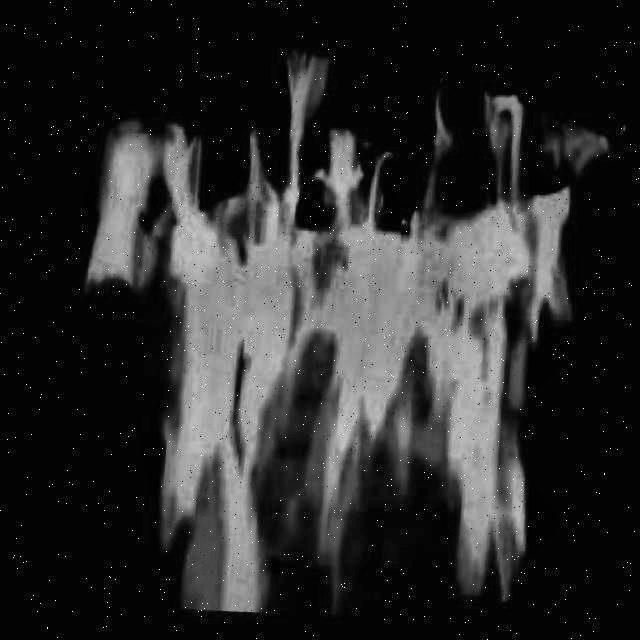Fire: (23, 0, 640, 639)
